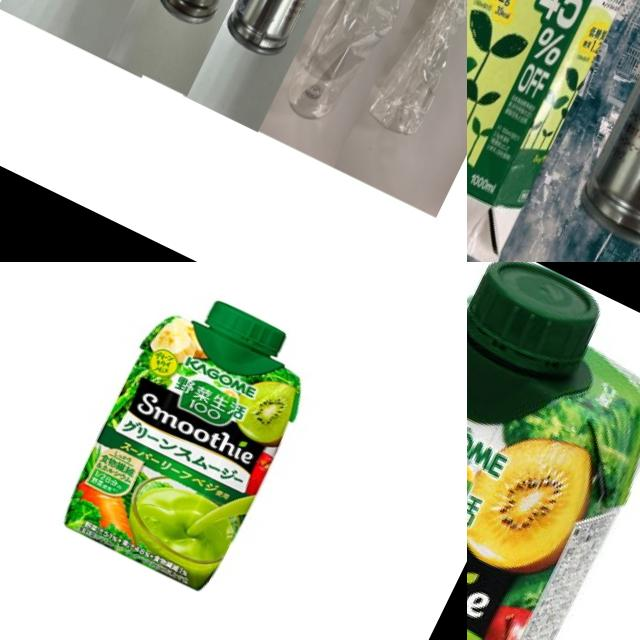Aluminium Foil: (42, 266, 328, 605), (467, 262, 640, 640), (467, 0, 640, 262), (467, 0, 542, 174)
Can: (571, 0, 640, 262), (221, 0, 397, 62)
Transparent Plastic Bottle: (280, 0, 467, 135), (364, 0, 467, 143)
